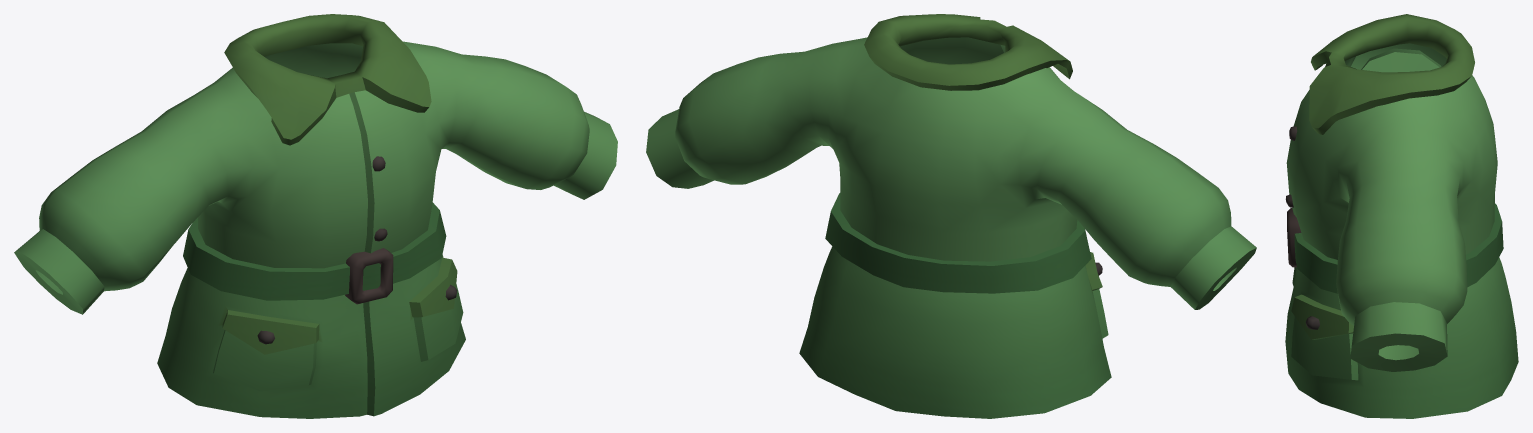
The model's file is Outwear_40.glb.
The picture shows the model from 3 angles, left to right: view 1: azimuth 30°, elevation 25°; view 2: azimuth 150°, elevation 25°; view 3: azimuth 270°, elevation 25°; orthographic projection. The views are drawn at different scales.
Visible parts, largest first — view 1: Outwear_40; view 2: Outwear_40; view 3: Outwear_40.
Boxes of the visible parts, x1,y1,x2,y2 form: Outwear_40: (14,14,617,418); Outwear_40: (646,14,1256,418); Outwear_40: (1285,14,1518,418).
Size of the model in its own units: 0.6375 by 0.352 by 0.2291.
Materials: 1 (1 with a texture image).
